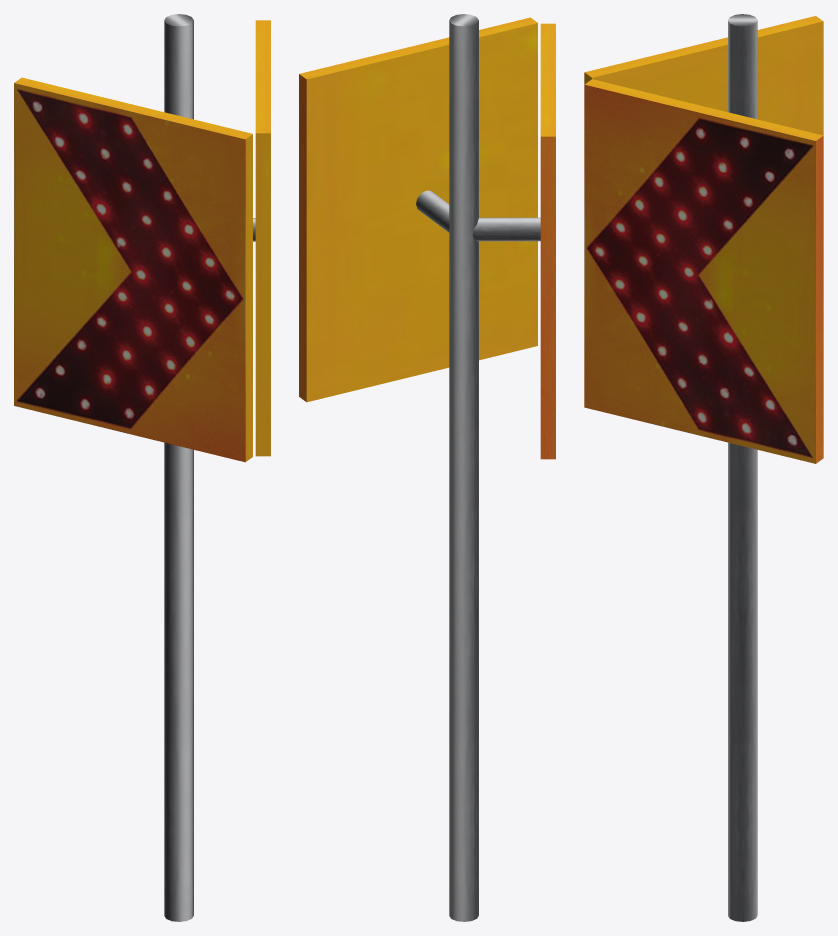
3 views of the same model, side by side, from view 1: azimuth 30°, elevation 25°; view 2: azimuth 150°, elevation 25°; view 3: azimuth 270°, elevation 25° (orthographic).
Visible parts, largest first — view 1: MainBuilding; view 2: MainBuilding; view 3: MainBuilding.
Part boxes in pixels (bbox=[...]): MainBuilding: bbox=[14, 14, 270, 921]; MainBuilding: bbox=[299, 14, 555, 921]; MainBuilding: bbox=[584, 14, 823, 921].
Size of the model in its own units: 0.4993 by 1.66 by 0.4025.
1 material, 1 textured.
